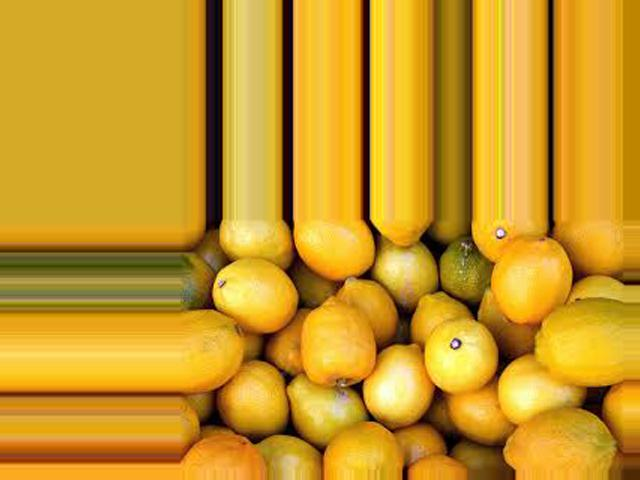lemon: (290, 219, 380, 284)
